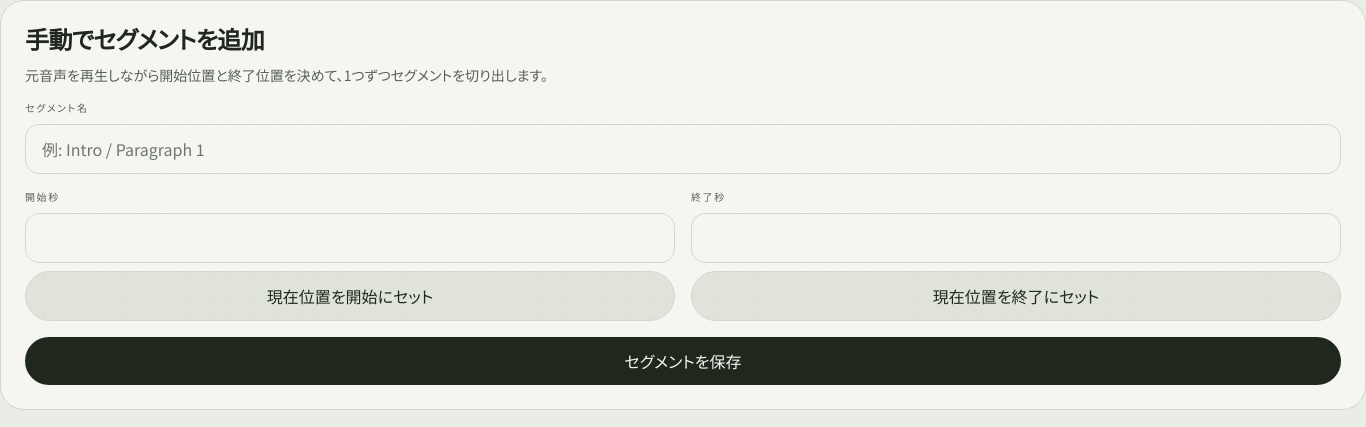
Test: ManualSegmentForm › copies the player current time into the start and end fields
This screenshot has width=1366, height=427.
Step 1. Click the button "現在位置を開始にセット" → (350,296), box [25,271,675,321]
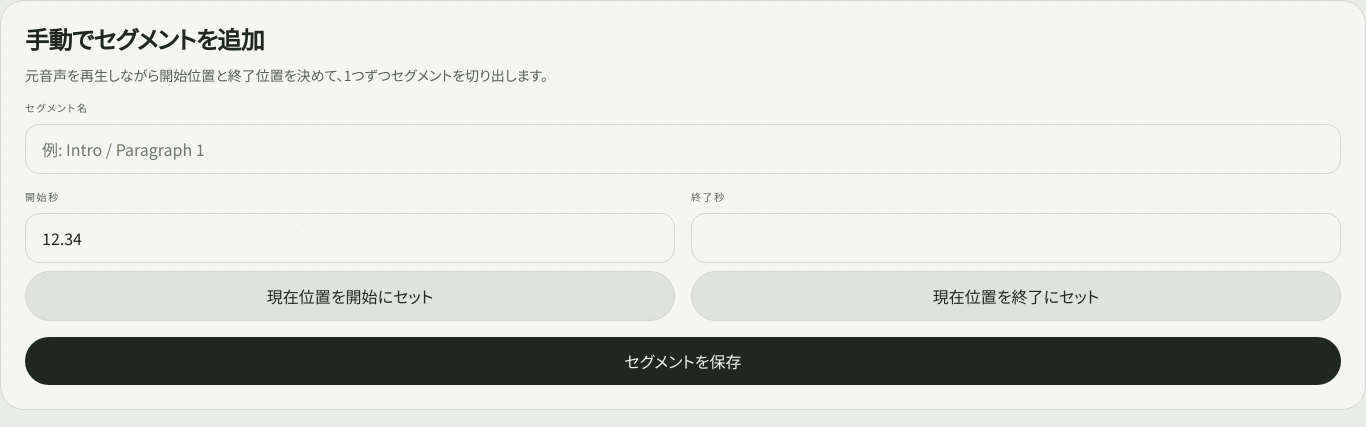
Step 2. Click the button "現在位置を終了にセット" → (1016,296), box [691,271,1341,321]
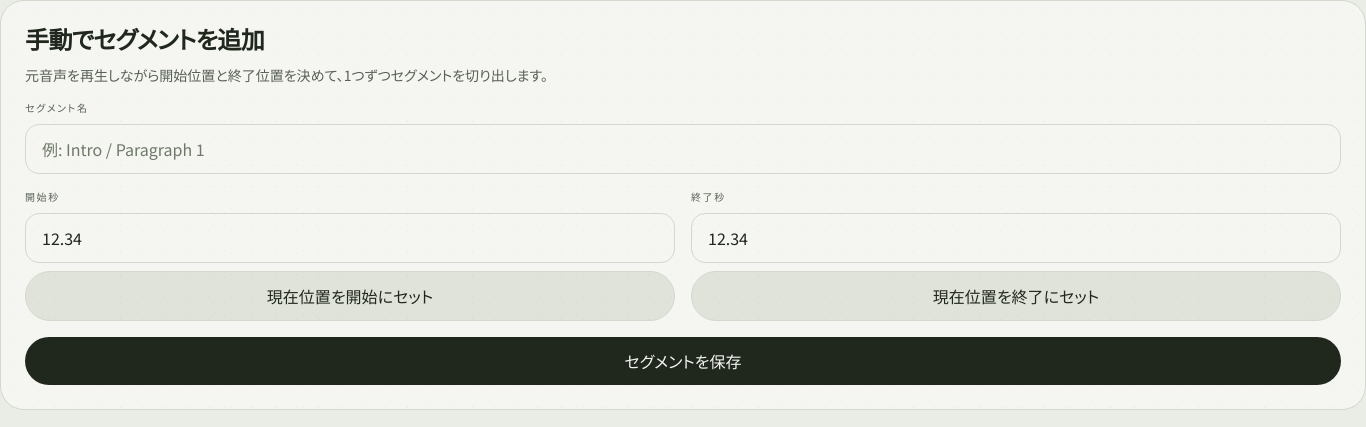
expect the number field labelled "開始秒" holds "12.34": met, box [25,213,675,263]
expect the number field labelled "終了秒" holds "12.34": met, box [691,213,1341,263]
